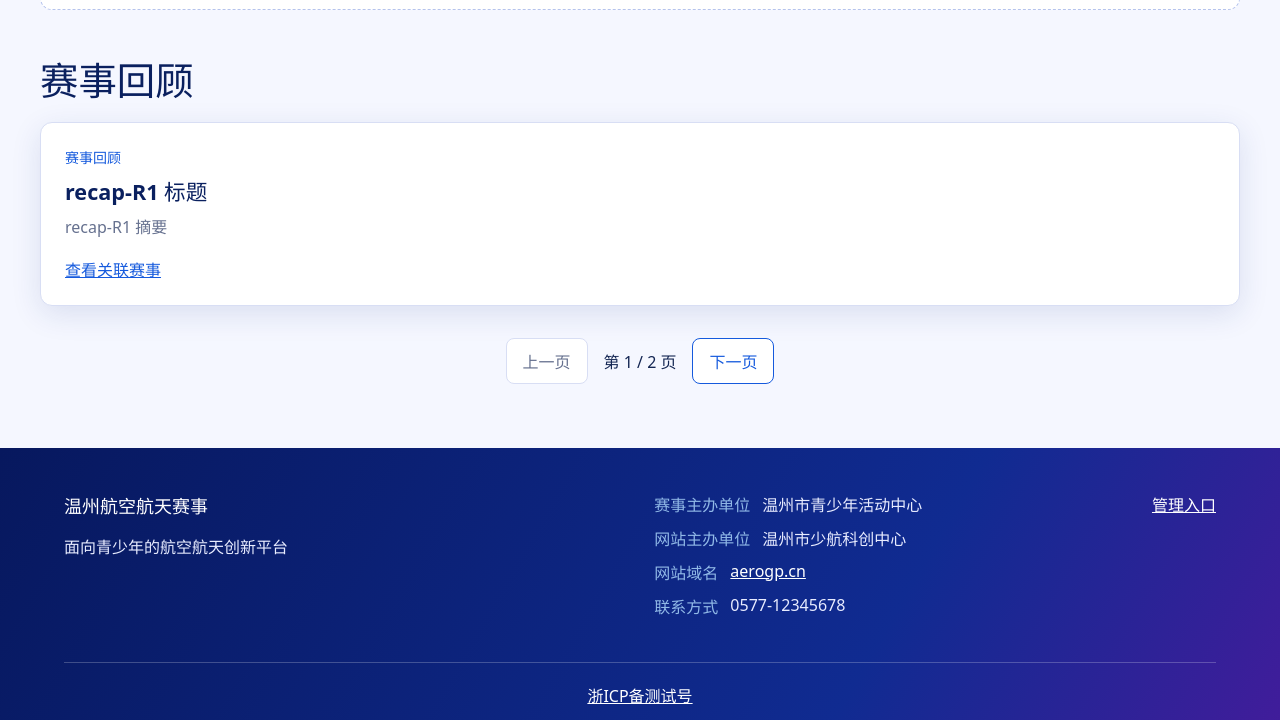
Scenario: public content lists › paginates recap rows without losing the history route
(page scrolled)
Expected: the link "recap-R1 标题" is shown, [65,176,207,206]
Click the button "下一页": point(734, 361) [692,338,774,384]
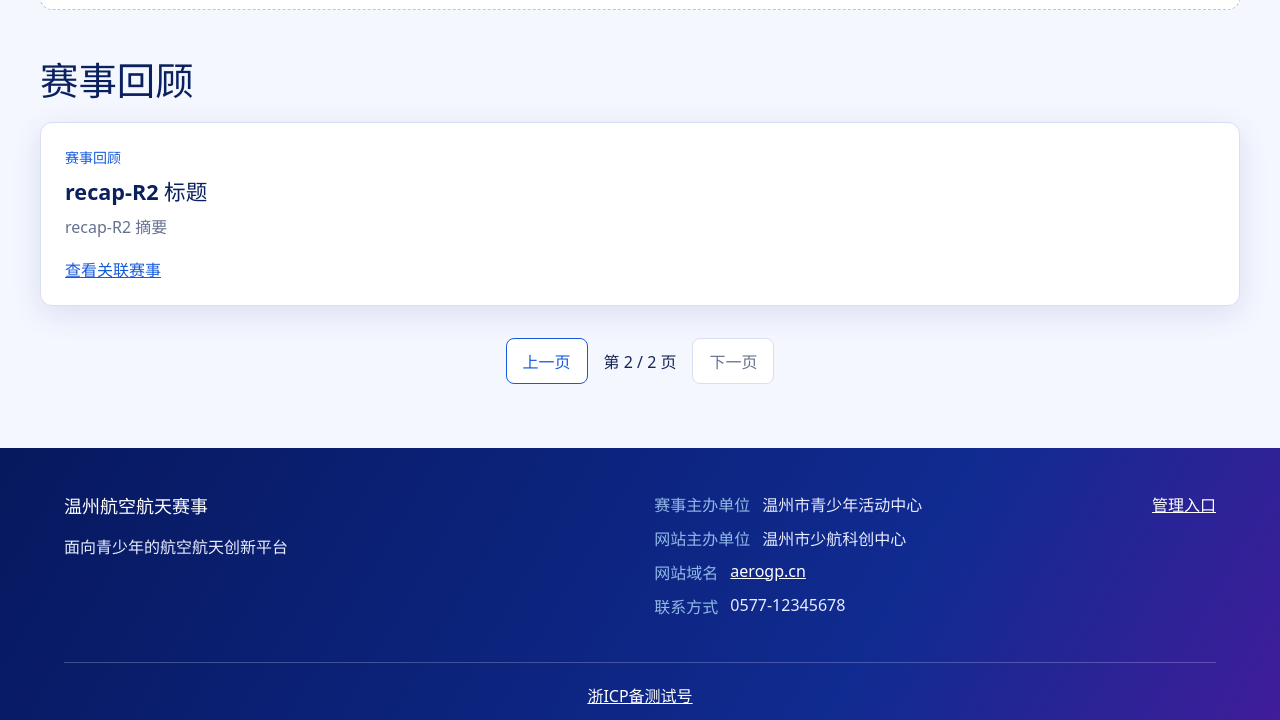
Result: the link "recap-R2 标题" is shown at [65,176,207,206]
